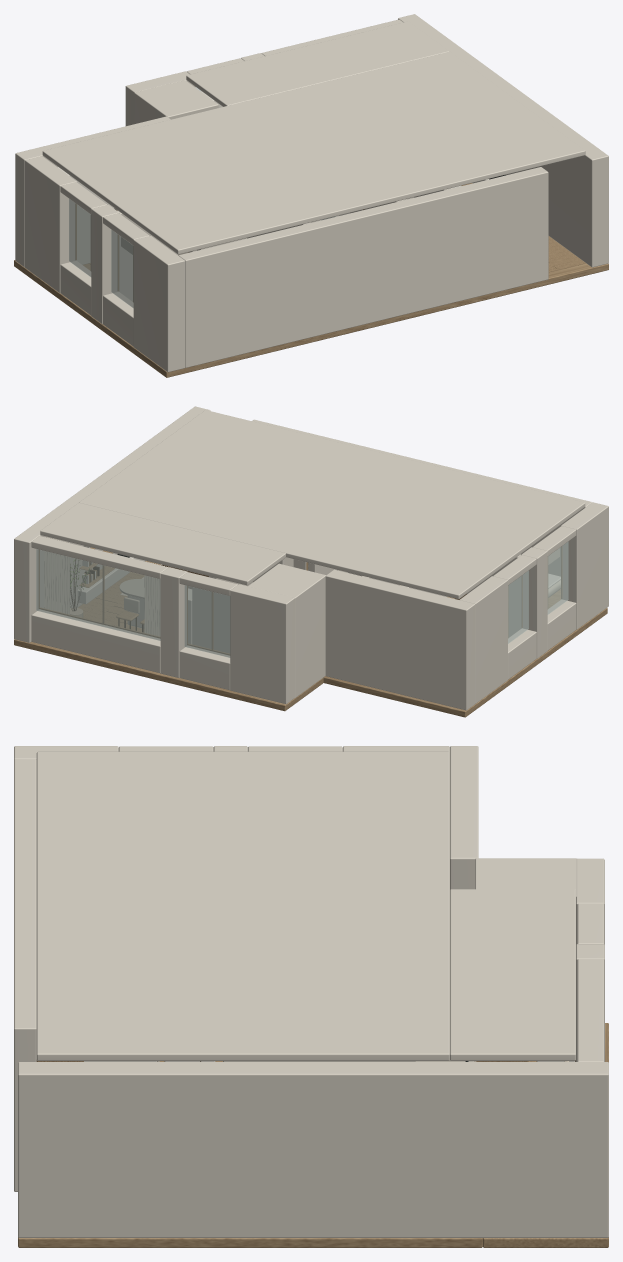
File: qingyu.glb
The picture shows the model from 3 angles, top to bottom: view 1: azimuth 30°, elevation 25°; view 2: azimuth 150°, elevation 25°; view 3: azimuth 270°, elevation 25°; orthographic projection. The views are drawn at different scales.
Parts seen in each view (by area): view 1: Ceiling | warm seamless plaster, Envelope | plaster.007, Ceiling | warm seamless plaster.001, Envelope | plaster.003, Envelope | plaster.006, Envelope | plaster.004, Floor | main, Envelope | plaster.005, Envelope | north service return, Envelope | plaster, Window glazing.002, Window glazing.003 (+8 smaller); view 2: Ceiling | warm seamless plaster, Envelope | plaster, Ceiling | warm seamless plaster.001, Window glazing.001, Envelope | plaster.001, Envelope | plaster.003, Envelope | plaster.006, Envelope | north service return, Window sill.001, Envelope | plaster.004, Window glazing, Envelope | plaster.002 (+18 smaller); view 3: Ceiling | warm seamless plaster, Envelope | plaster.003, Ceiling | warm seamless plaster.001, Envelope | plaster.007, Floor | main, Envelope | plaster, Envelope | north service return, Window header.001, Envelope | plaster.001, Floor | north extension, Window header, Envelope | plaster.006 (+1 smaller).
Boxes of the visible parts, <box> form: Ceiling | warm seamless plaster: <box>42,51,585,254</box>; Envelope | plaster.007: <box>178,167,548,367</box>; Ceiling | warm seamless plaster.001: <box>186,21,449,106</box>; Envelope | plaster.003: <box>398,14,608,267</box>; Envelope | plaster.006: <box>133,235,185,372</box>; Envelope | plaster.004: <box>25,156,76,292</box>; Floor | main: <box>14,236,608,377</box>; Envelope | plaster.005: <box>91,204,119,324</box>; Envelope | north service return: <box>134,80,218,123</box>; Envelope | plaster: <box>15,116,170,267</box>; Window glazing.002: <box>69,199,91,276</box>; Window glazing.003: <box>111,230,133,308</box>; Ceiling | warm seamless plaster: <box>79,410,585,599</box>; Envelope | plaster: <box>325,569,475,710</box>; Ceiling | warm seamless plaster.001: <box>40,503,285,585</box>; Window glazing.001: <box>36,549,160,640</box>; Envelope | plaster.001: <box>230,584,294,704</box>; Envelope | plaster.003: <box>14,406,210,642</box>; Envelope | plaster.006: <box>561,502,608,629</box>; Envelope | north service return: <box>248,563,325,697</box>; Window sill.001: <box>31,609,160,673</box>; Envelope | plaster.004: <box>460,576,507,703</box>; Window glazing: <box>184,585,230,657</box>; Envelope | plaster.002: <box>160,567,187,677</box>; Ceiling | warm seamless plaster: <box>36,751,449,1060</box>; Envelope | plaster.003: <box>18,1062,608,1237</box>; Ceiling | warm seamless plaster.001: <box>450,889,575,1060</box>; Envelope | plaster.007: <box>14,759,36,1191</box>; Floor | main: <box>18,1061,482,1247</box>; Envelope | plaster: <box>450,746,478,889</box>; Envelope | north service return: <box>475,858,576,896</box>; Window header.001: <box>577,959,603,1061</box>; Envelope | plaster.001: <box>576,858,604,944</box>; Floor | north extension: <box>483,1023,608,1247</box>; Window header: <box>577,903,603,943</box>; Envelope | plaster.006: <box>14,746,118,759</box>.
Size of the model in its own units: 11.38 by 2.93 by 8.7.
Materials: 25 (5 with a texture image).
